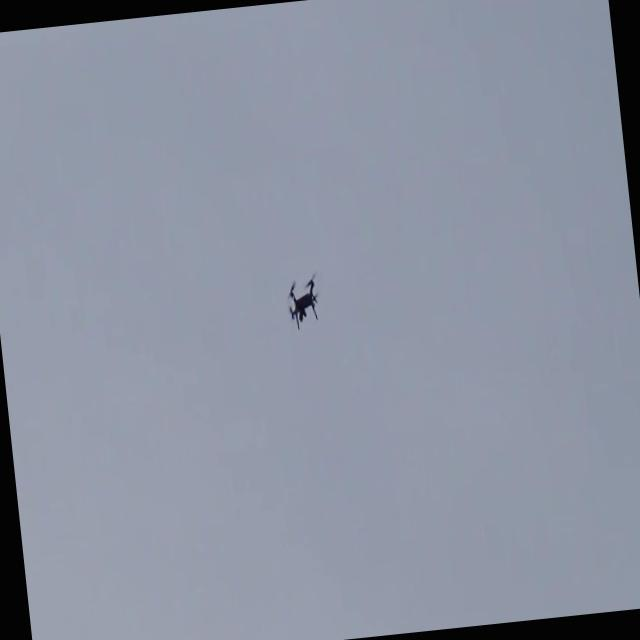drone: (284, 270, 322, 336)
